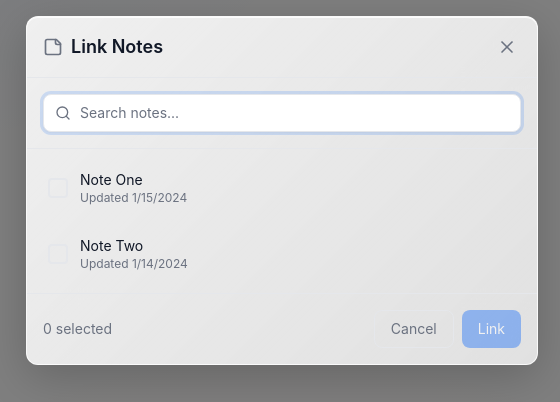
Test: LinkItemModal › Selection › toggles selection on item click
Step 1. Click the text "Note One" → coordinates (111, 179), box [80,170,143,188]
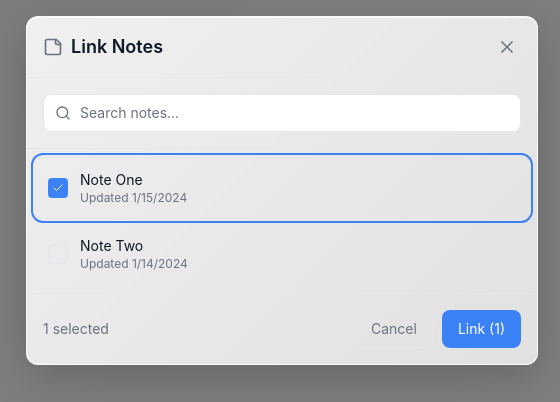
Check: the text "1 selected" is shown, box [43,318,109,338]
